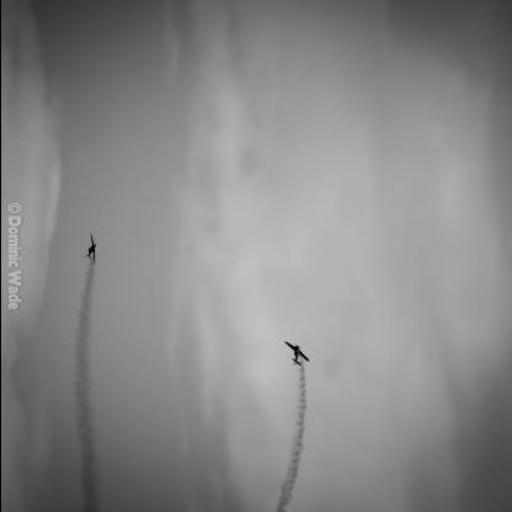aircraft: (285, 341, 310, 366), (85, 234, 97, 263)
